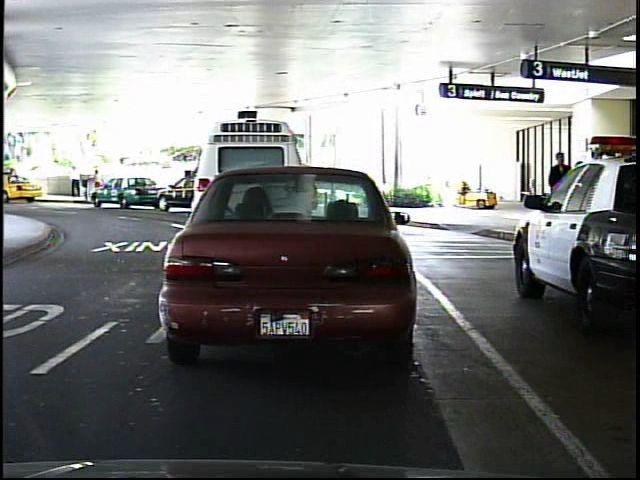person: (544, 147, 576, 237), (87, 164, 106, 198), (70, 161, 84, 200)
